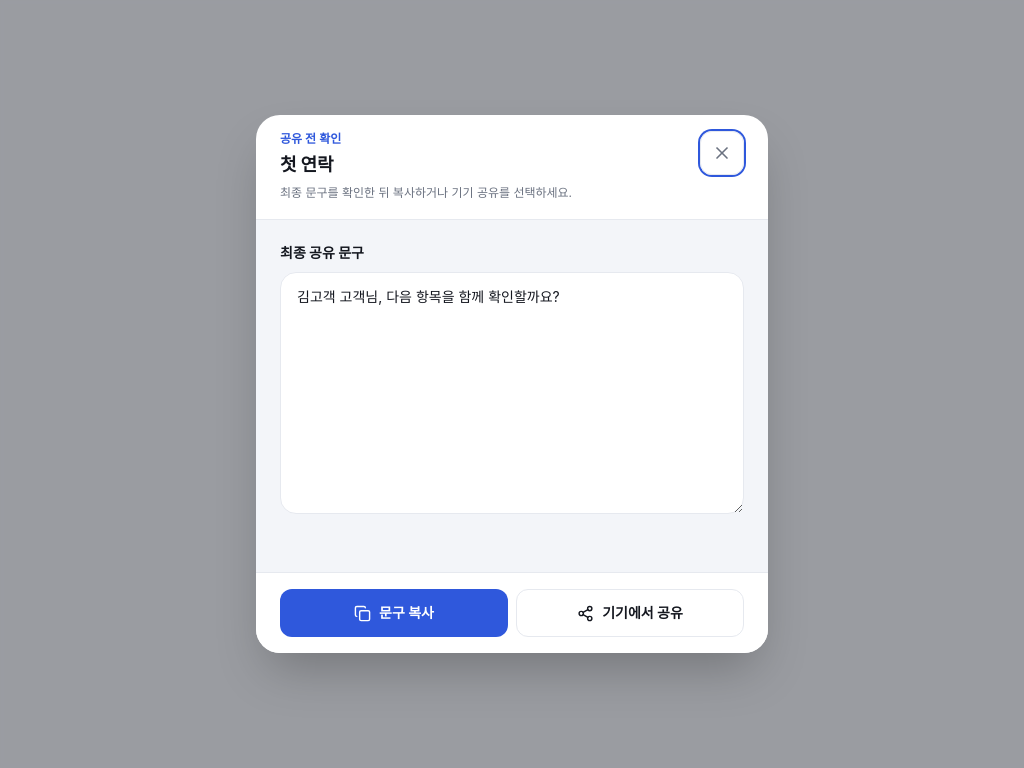
Test: TalkTemplateShare › shows other share errors while keeping copy usable
Click the button "기기에서 공유".
click(630, 613)  # box [516,589,744,637]
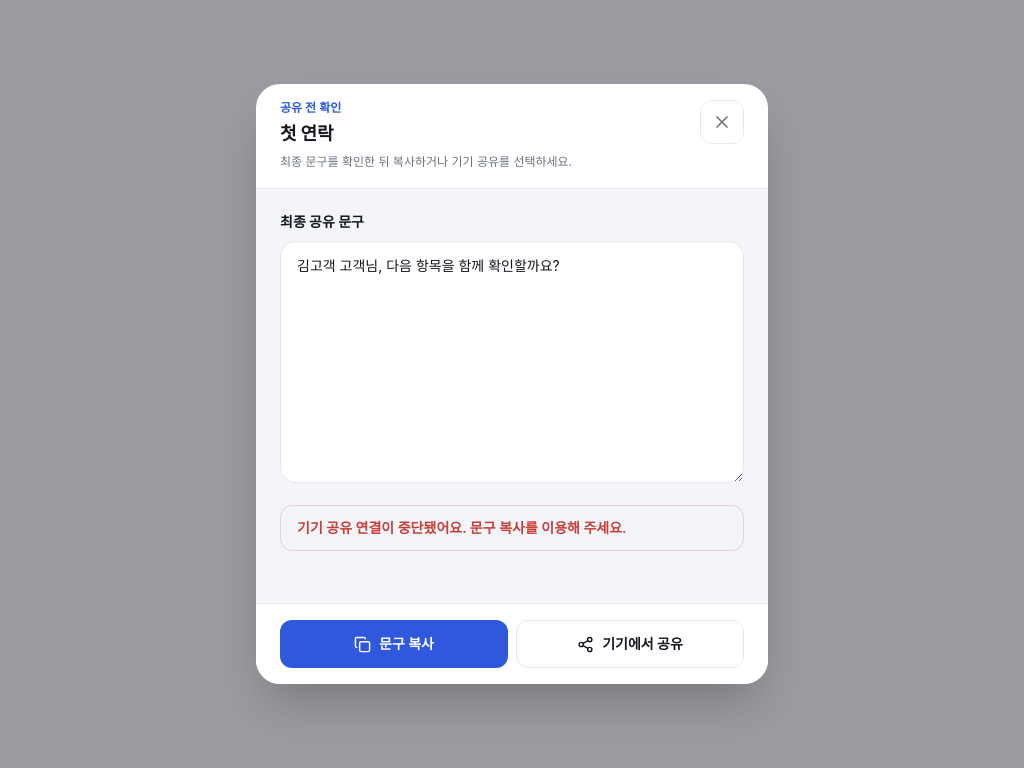
Result: the message reads "기기 공유 연결이 중단됐어요. 문구 복사를 이용해 주세요." at [297,519,627,536]
Click the button "문구 복사".
click(394, 644)  # box [280,620,508,668]
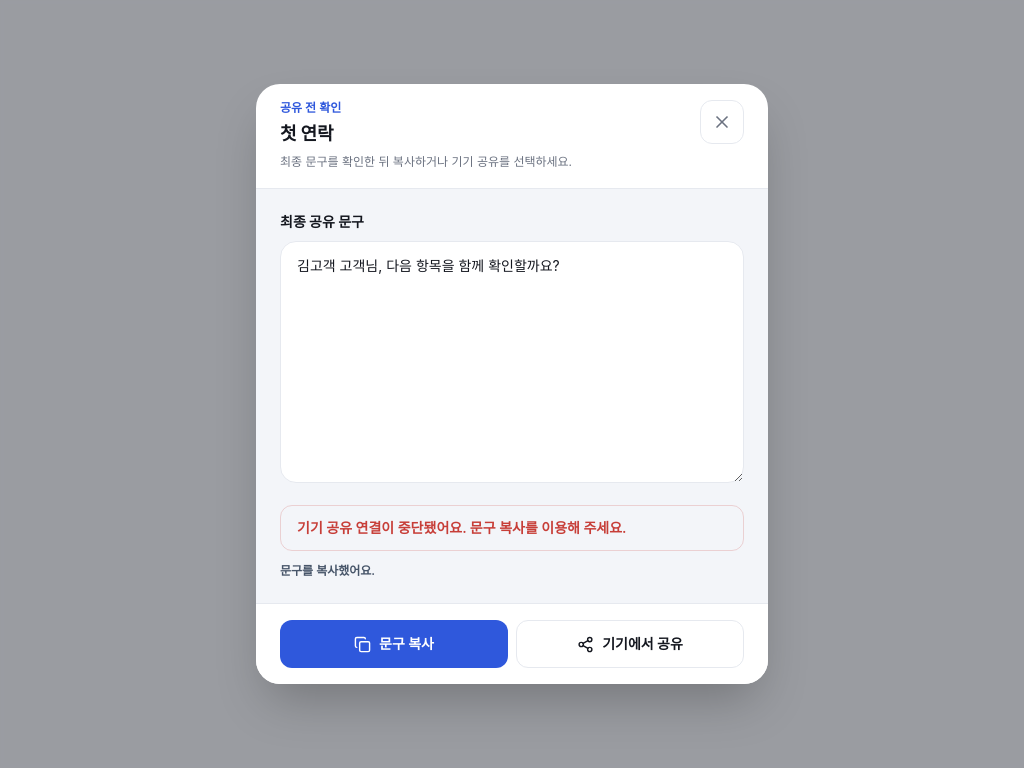
Result: the text "문구를 복사했어요." is shown at [280,563,375,578]
